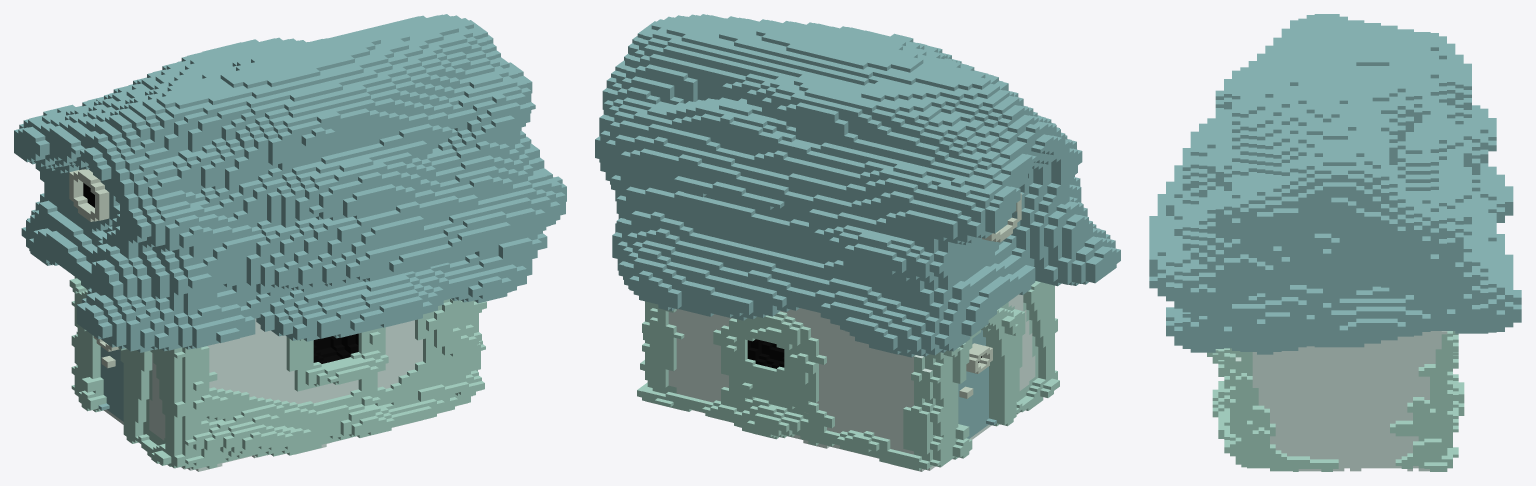
Rendered from CoralHouse2.fbx.
3 renders of one model, left to right at view 1: azimuth 30°, elevation 25°; view 2: azimuth 150°, elevation 25°; view 3: azimuth 270°, elevation 25°, orthographic. The views are drawn at different scales.
Visible parts, largest first — view 1: Cube.013; view 2: Cube.013; view 3: Cube.013.
Boxes of the visible parts, x1,y1,x2,y2 form: Cube.013: [14, 14, 566, 471]; Cube.013: [595, 14, 1120, 471]; Cube.013: [1149, 14, 1521, 471].
Size of the model in its own units: 485 by 369 by 373.
